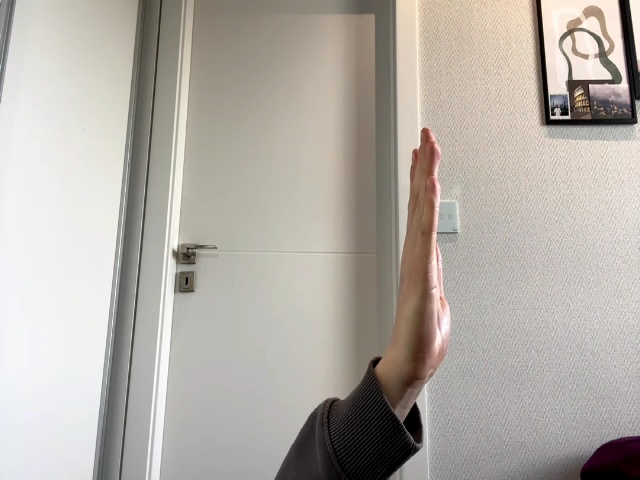SZ: (397, 128, 451, 385)
